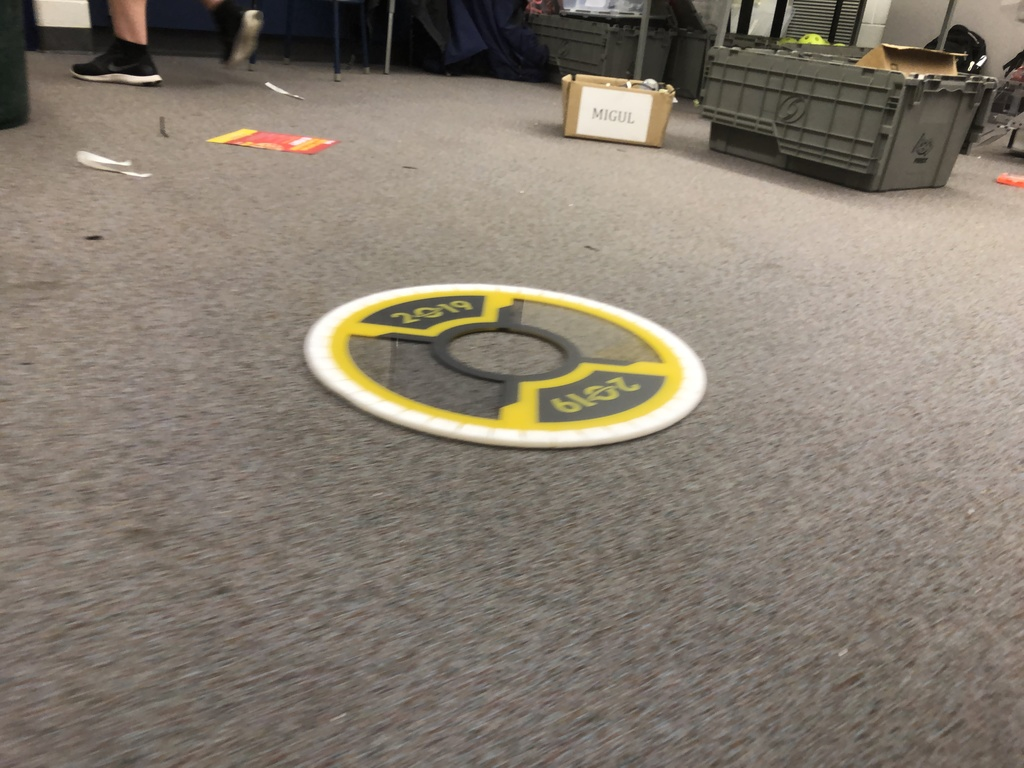hatch_panel: (291, 271, 742, 462)
